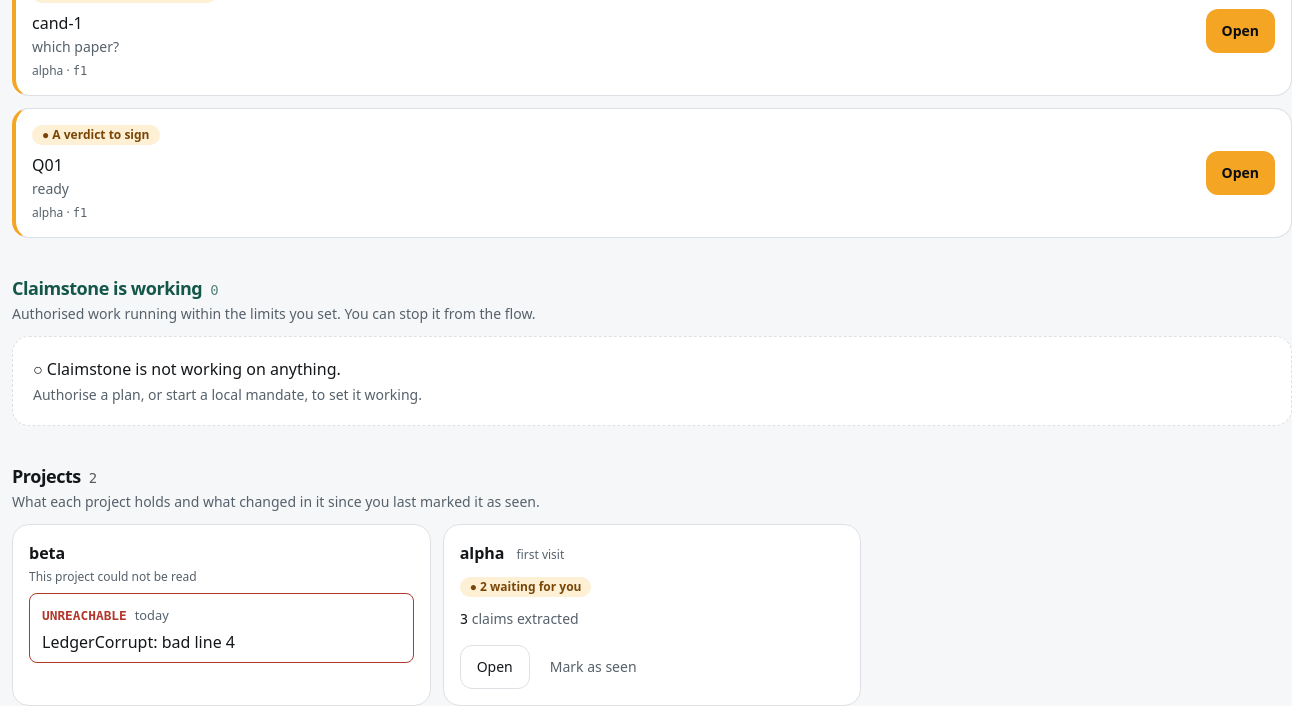
Test: F2: Today › disables Mark as seen while its request runs
The image size is (1292, 706).
(page scrolled)
Click the button "Mark as seen" at (593, 667), box left=538, top=645, right=649, bottom=689
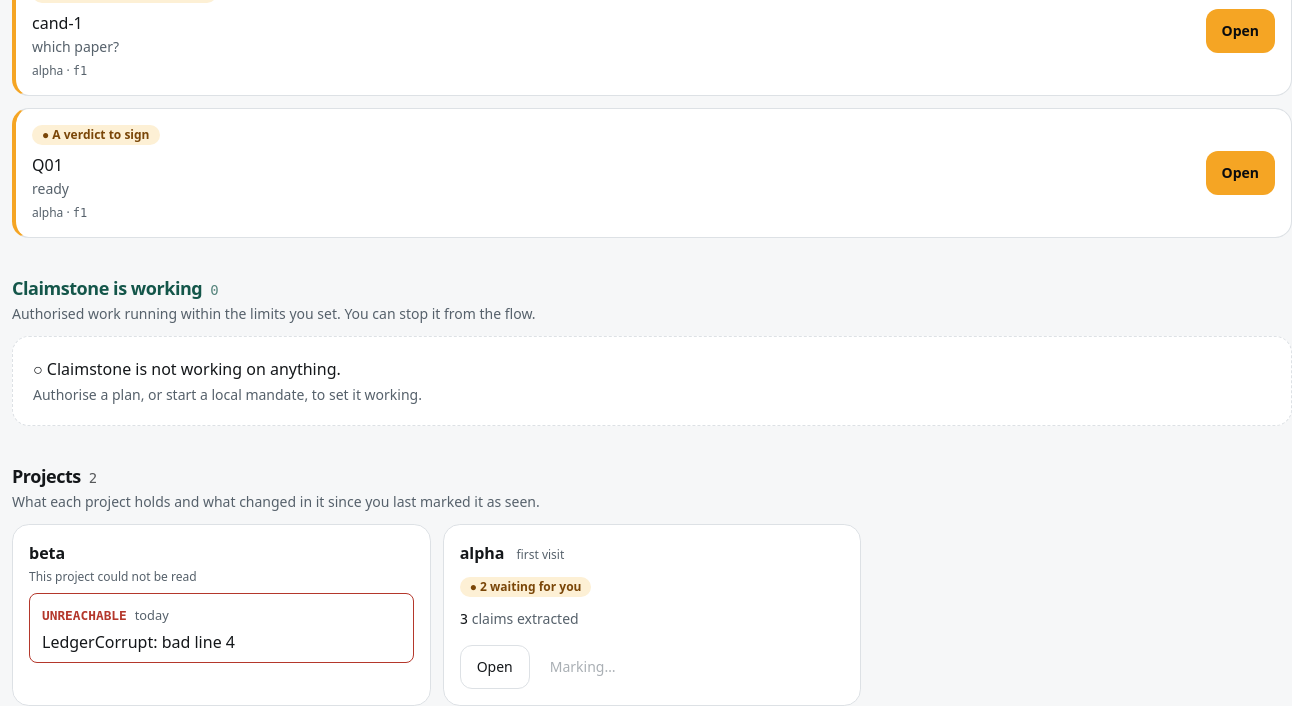
Result: the button named "Mark as seen" is disabled
Click the button named "Mark as seen" at (583, 667), box left=538, top=645, right=628, bottom=689
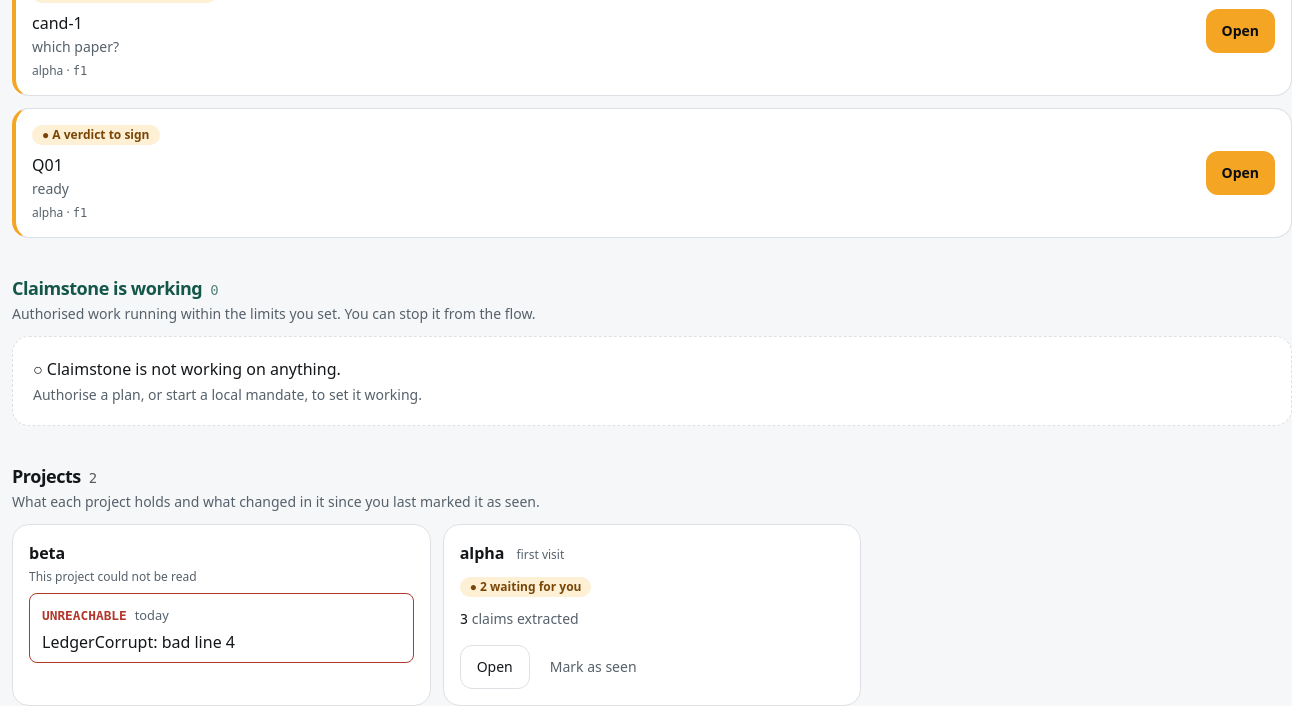
Result: the button "Mark as seen" is enabled at left=538, top=645, right=649, bottom=689
